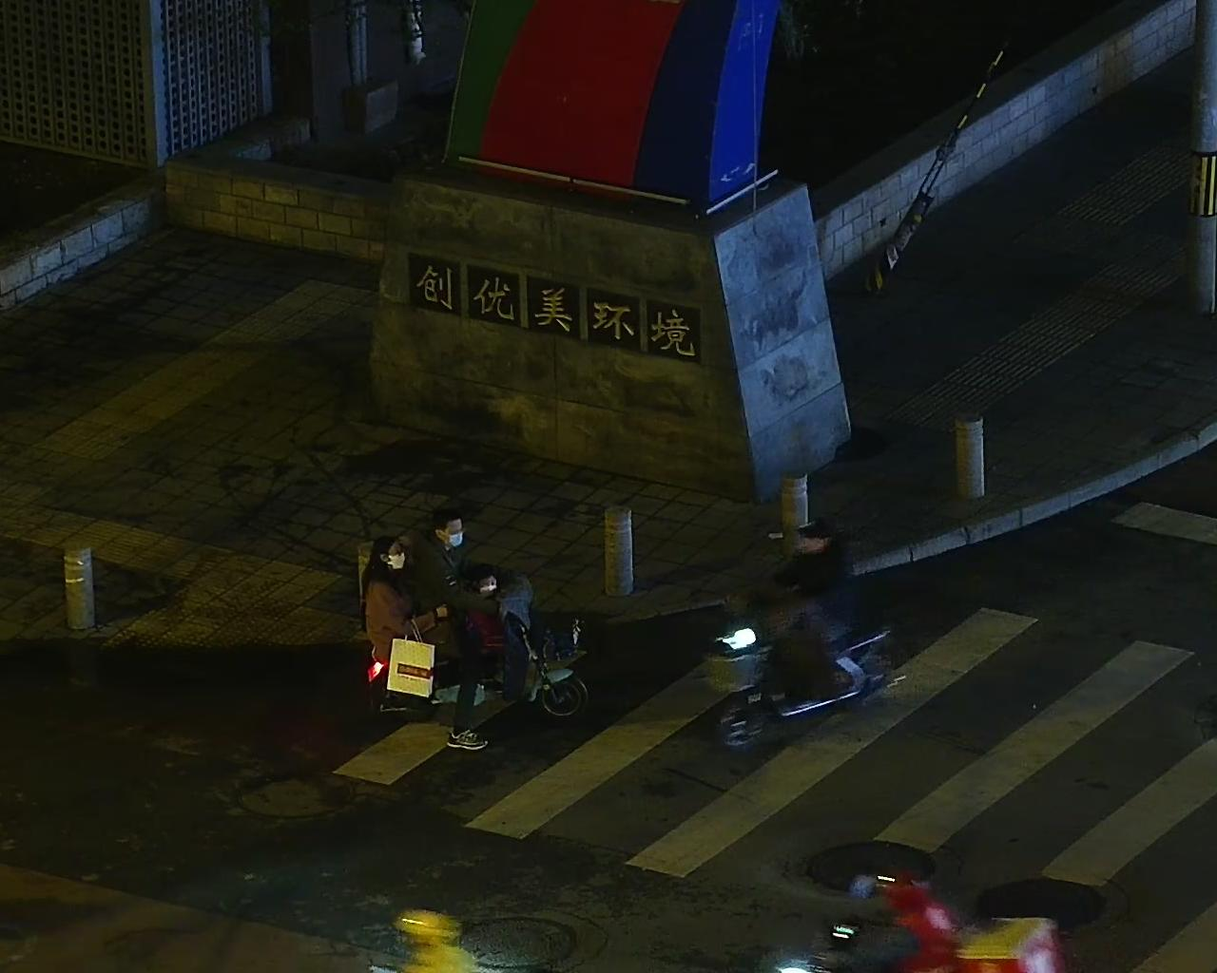person: (424, 512, 501, 756), (821, 872, 968, 973), (774, 520, 856, 700), (361, 531, 435, 697)
